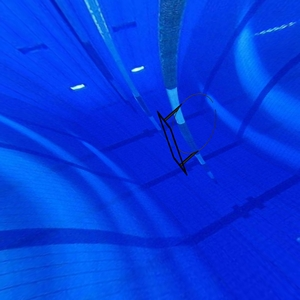circle: (156, 91, 219, 175)
